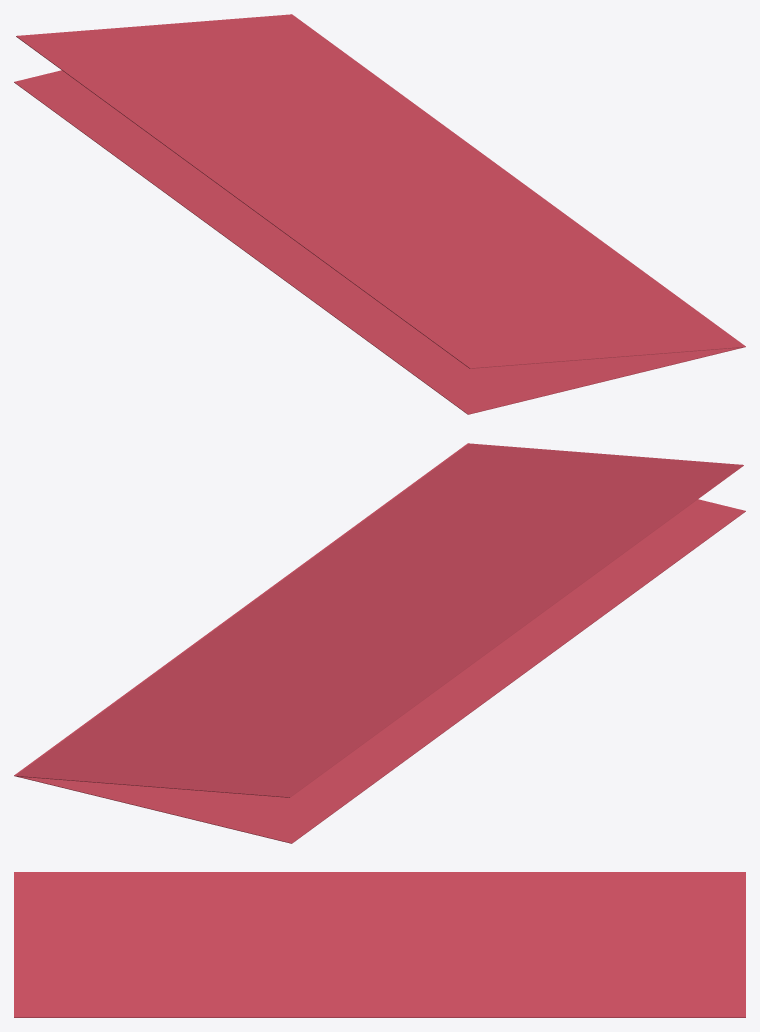
Rendered from paperairplane2.glb.
3 views of the same model, one above another, from view 1: azimuth 30°, elevation 25°; view 2: azimuth 150°, elevation 25°; view 3: azimuth 270°, elevation 25° (orthographic). The views are drawn at different scales.
Parts seen in each view (by area): view 1: Mesh_Mesh_head_geo.001_lambert2SG.001; view 2: Mesh_Mesh_head_geo.001_lambert2SG.001; view 3: Mesh_Mesh_head_geo.001_lambert2SG.001.
Boxes of the visible parts, left/top/right/bottom form: Mesh_Mesh_head_geo.001_lambert2SG.001: left=14, top=14, right=745, bottom=414; Mesh_Mesh_head_geo.001_lambert2SG.001: left=14, top=443, right=745, bottom=843; Mesh_Mesh_head_geo.001_lambert2SG.001: left=14, top=872, right=745, bottom=1017.
Size of the model in its own units: 5 by 0.7921 by 14.14.
